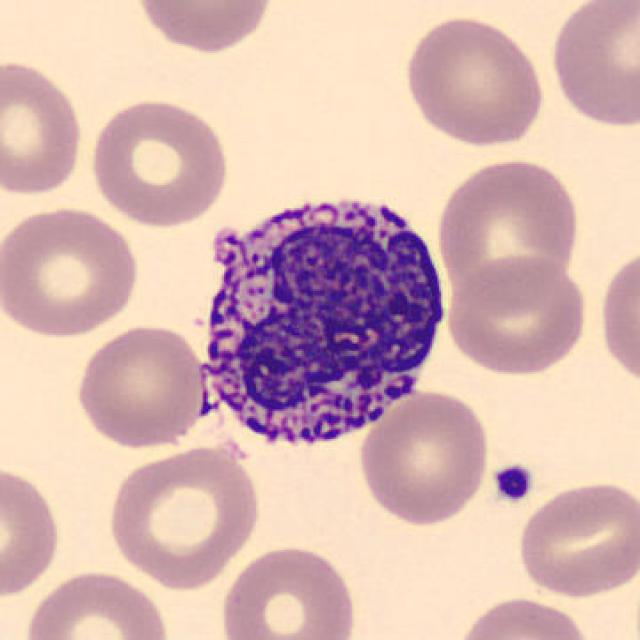Basophil: (185, 175, 459, 467)
Platelets: (491, 460, 537, 506)
RBC: (103, 440, 265, 590), (434, 152, 583, 310), (85, 93, 233, 230), (400, 11, 548, 148), (354, 386, 494, 529), (0, 201, 144, 340), (441, 252, 592, 377), (71, 321, 210, 451), (514, 476, 638, 601), (217, 541, 363, 640), (0, 55, 87, 199), (546, 0, 638, 132), (21, 566, 172, 640), (0, 460, 64, 603), (129, 0, 279, 56), (450, 592, 596, 640), (596, 240, 638, 393)
